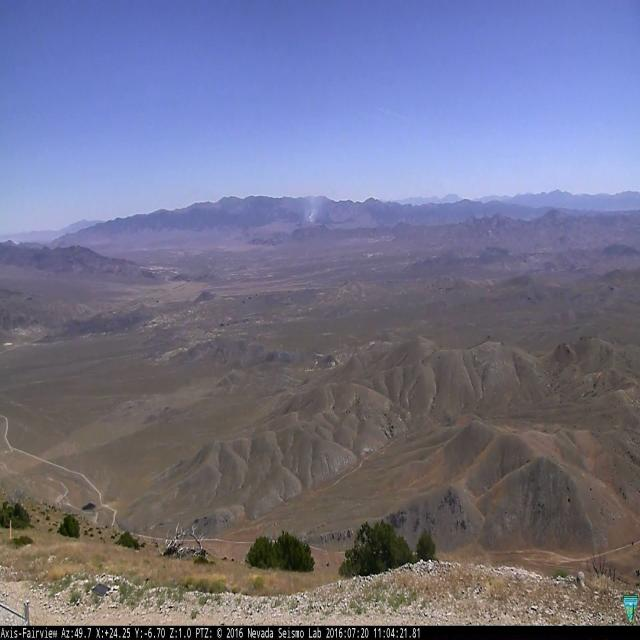smoke: (304, 200, 318, 222)
